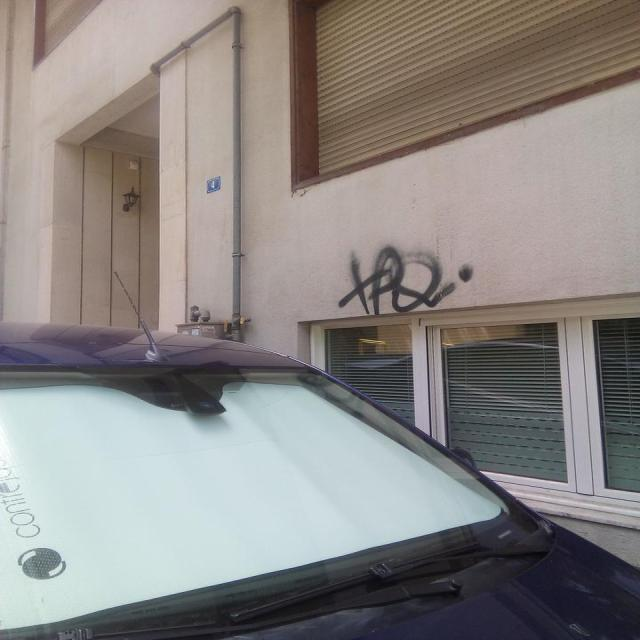nonspitting: (342, 242, 472, 316)
